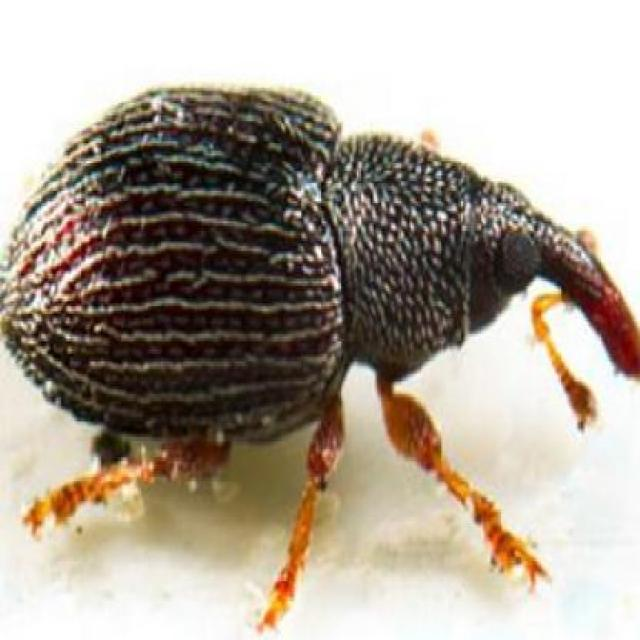rice-bug: (1, 83, 638, 537)
